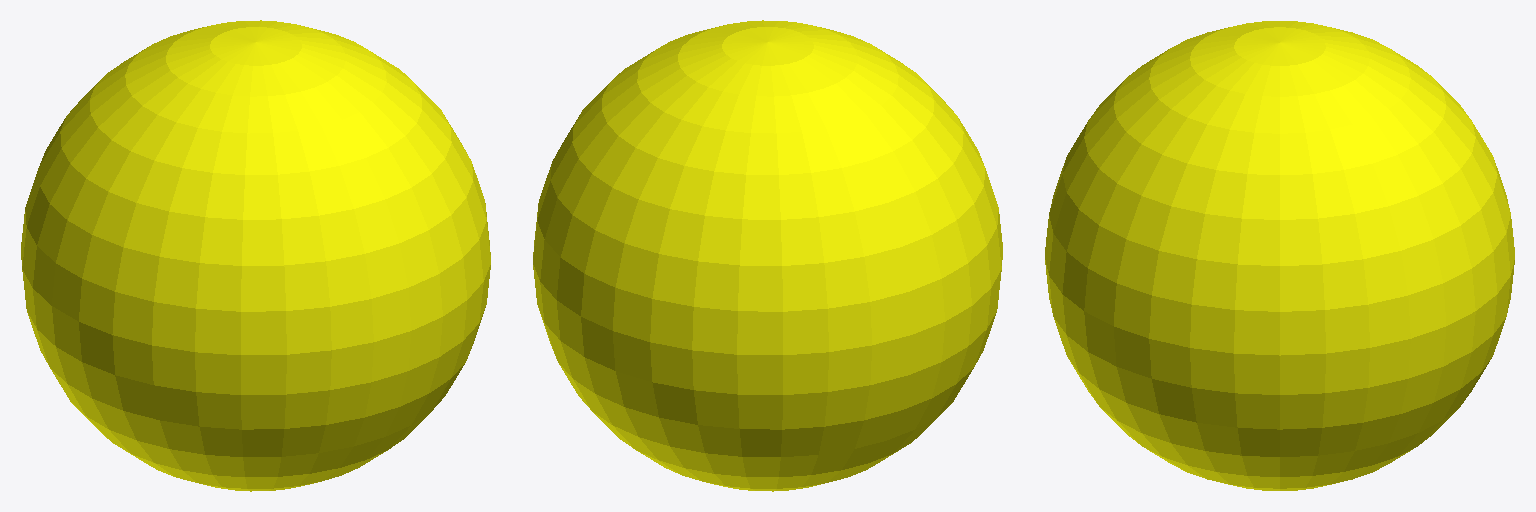
robot.urdf — ball:
<robot name="ball">

    <material name="color">
        <color rgba="1.0 1.0 0.0784313725490196 1.0" />
    </material>

	<link name="base_link">
		<visual>
			<geometry>
				<sphere radius="0.6"/>
			</geometry>
			<material name="color"/>
		</visual>
		<collision>
			<geometry>
				<sphere radius="0.6"/>
			</geometry>		
		</collision>
		<inertial>
			<mass value = "1"/>
			<inertia
				ixx = "0.6667"
				ixy = "0"
				ixz = "0"
				iyy = "0.6667"
				iyz = "0"
				izz = "0.6667"
			/>	
		</inertial>
	</link>	

</robot>

--- Render facts (derived) ---
The picture shows the robot from 3 angles, left to right: view 1: azimuth 30°, elevation 25°; view 2: azimuth 150°, elevation 25°; view 3: azimuth 270°, elevation 25°; orthographic projection.
Robot: ball — 1 links, 0 joints (none); root link base_link; default pose: every joint at zero.
Visible links, largest first — view 1: base_link; view 2: base_link; view 3: base_link.
Boxes of the visible links, x1=… form: base_link: x1=21, y1=20, x2=490, y2=491; base_link: x1=533, y1=20, x2=1002, y2=491; base_link: x1=1045, y1=21, x2=1514, y2=490.
Bounding box of the posed robot: 1.2 × 1.2 × 1.2 m (x, y, z).
Geometry: primitives only (box / cylinder / sphere), no mesh files.